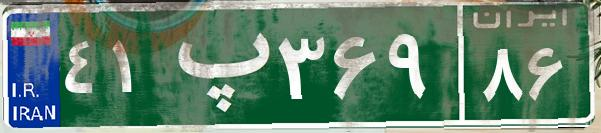1: (110, 28, 158, 105)
3: (273, 28, 330, 110)
4: (57, 26, 110, 107)
6: (330, 28, 385, 110), (525, 38, 570, 115)
8: (475, 38, 525, 113)
9: (385, 28, 445, 110)
پ: (158, 15, 273, 115)
